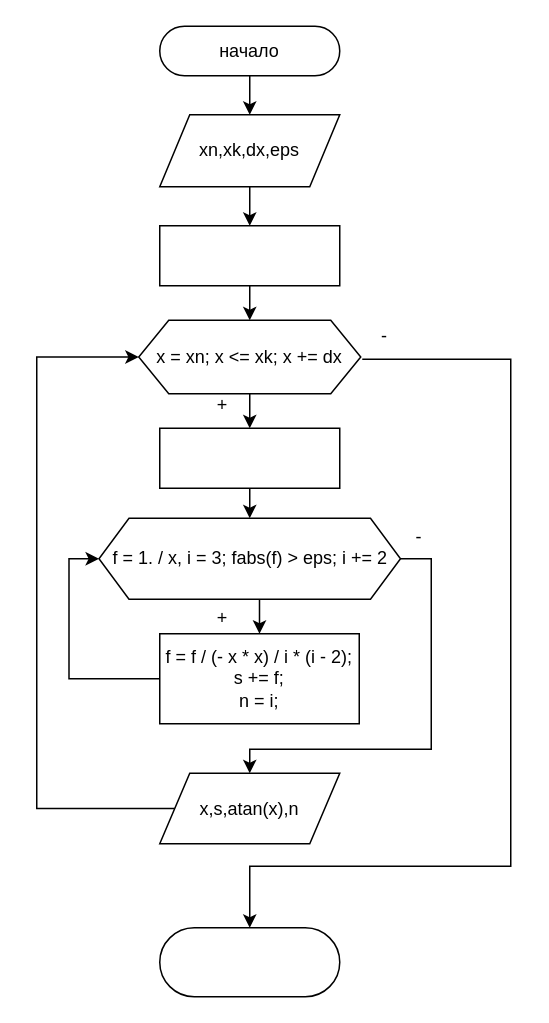
Some shapes in this 549 by 1023 pixel diagram are drawn without their labels. The shapes that lost their labels are listed below. From the top down, each one's box as (x1, y1, x2, y2) in pixels, then its label:
(158, 224, 340, 286): n = 0;
(158, 427, 340, 488): s = -M_PI / 2 - 1. / x;
(158, 926, 340, 997): конец
